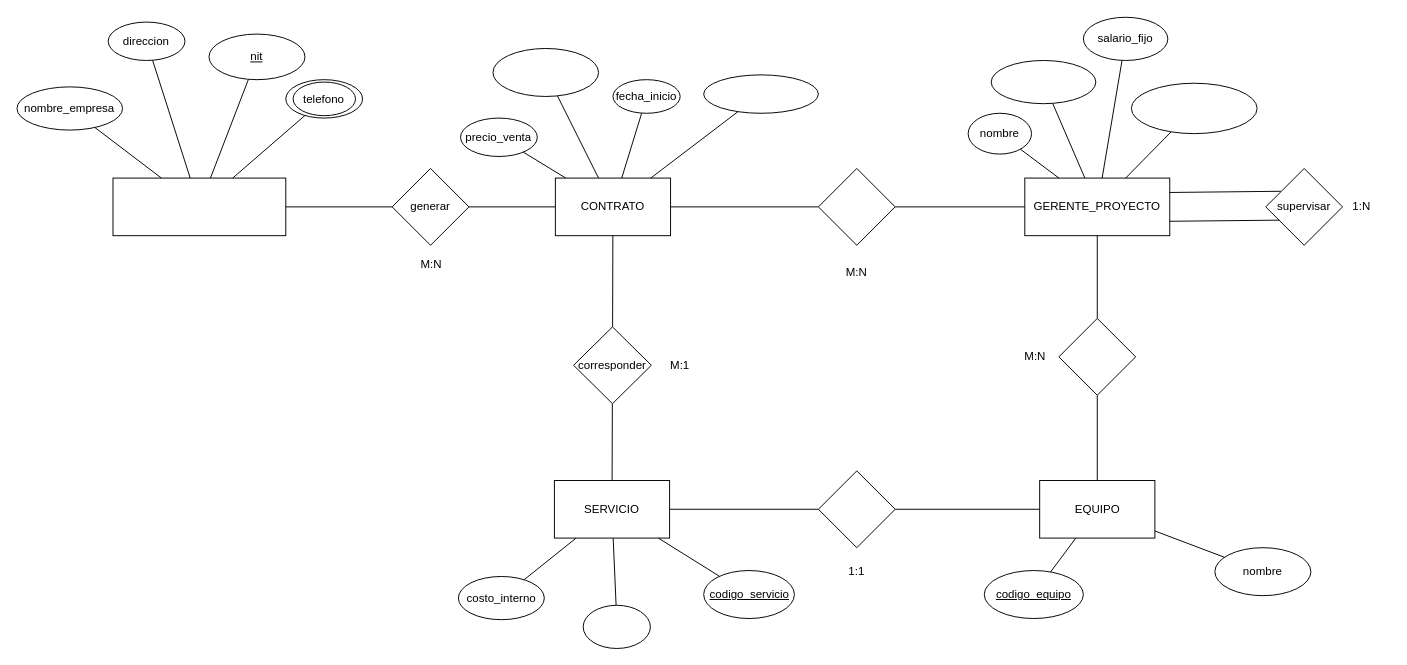
Image size: 1407x665. Some labels were removed from this diagram. Here are the shapes that lost their labels. From the top down, the centre of each, then its label:
(x=545, y=72): codigo_contrato
(x=1043, y=82): codigo_empleado
(x=760, y=93): fecha_finalización
(x=1193, y=108): sueldo_recomendado
(x=199, y=206): CLIENTE
(x=856, y=206): asistir
(x=1097, y=356): integrar
(x=856, y=509): ejecutar
(x=616, y=626): descripcion
